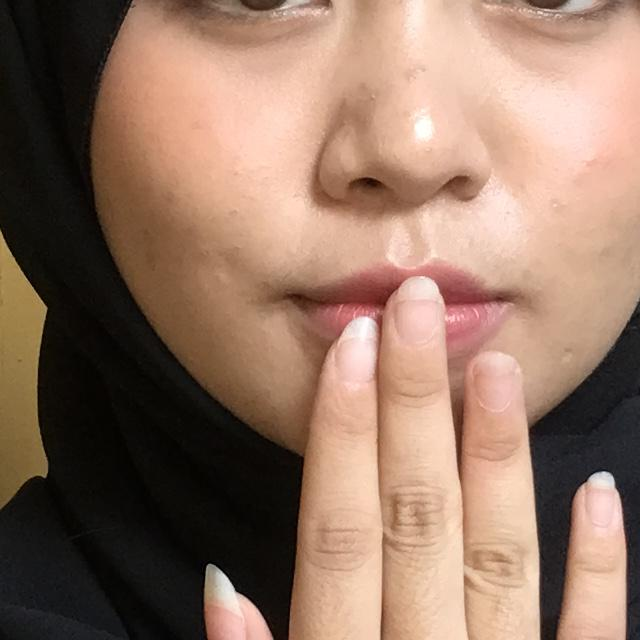ganteng: (110, 226, 640, 640)
